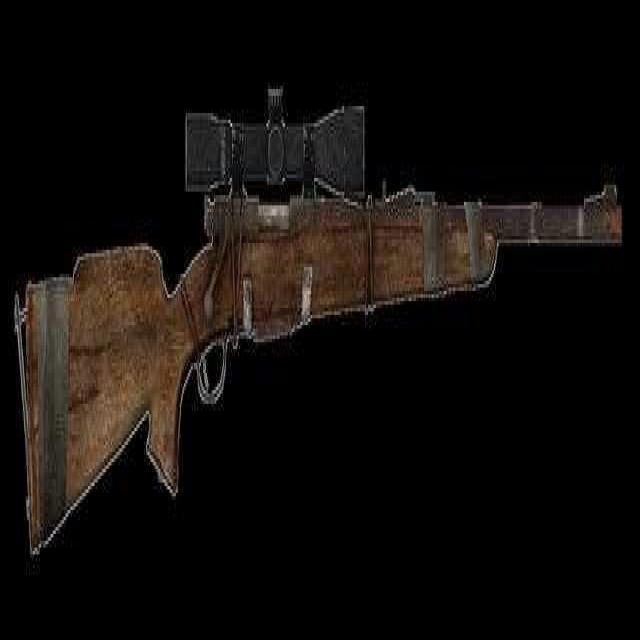weapon: (17, 20, 633, 612)
